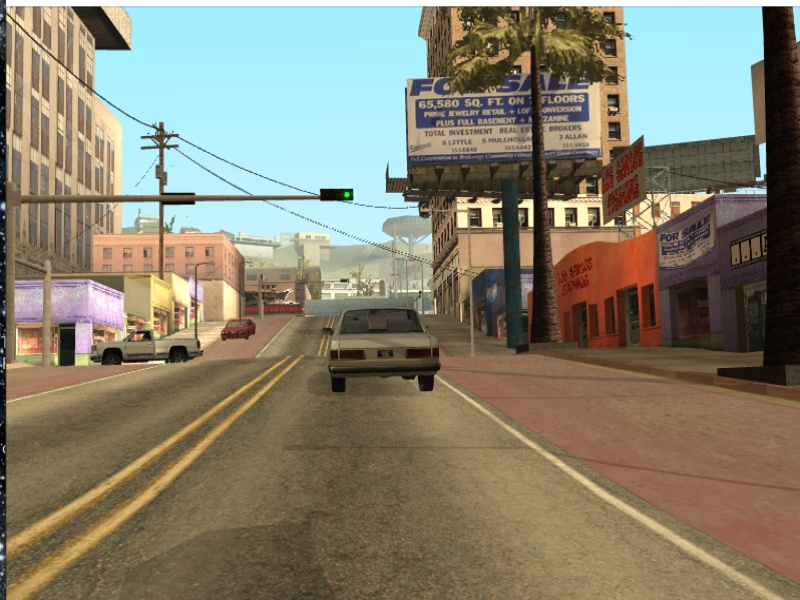pole: (7, 183, 21, 362), (35, 264, 55, 370), (466, 207, 480, 356), (191, 266, 201, 339), (256, 276, 266, 314)
tree: (527, 51, 563, 348)
vehicle: (324, 305, 447, 399), (90, 329, 202, 370), (218, 319, 259, 341)
